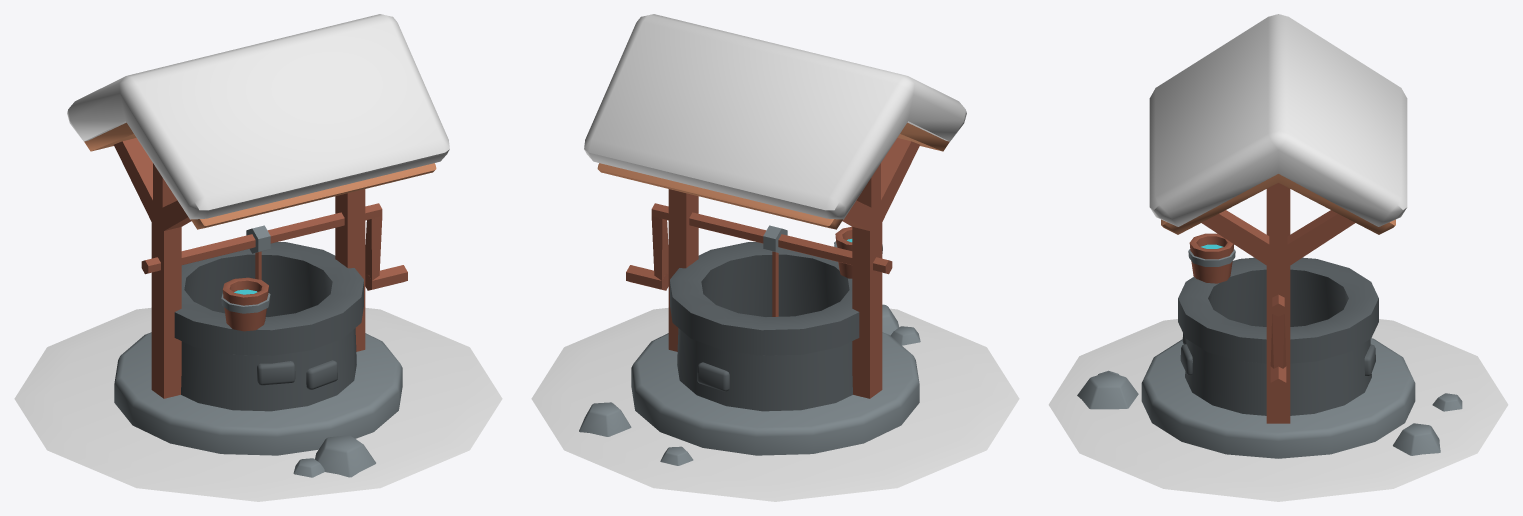
Rendered from well_snow.gltf.glb.
3 renders of one model, left to right at view 1: azimuth 30°, elevation 25°; view 2: azimuth 150°, elevation 25°; view 3: azimuth 270°, elevation 25°, orthographic. The views are drawn at different scales.
Parts seen in each view (by area): view 1: well_snow; view 2: well_snow; view 3: well_snow.
Part boxes in pixels (bbox=[...]): well_snow: bbox=[14, 14, 502, 501]; well_snow: bbox=[531, 14, 1019, 501]; well_snow: bbox=[1048, 14, 1508, 501].
Bounding box in the file's own units: 1.02 × 0.8113 × 1.02.
